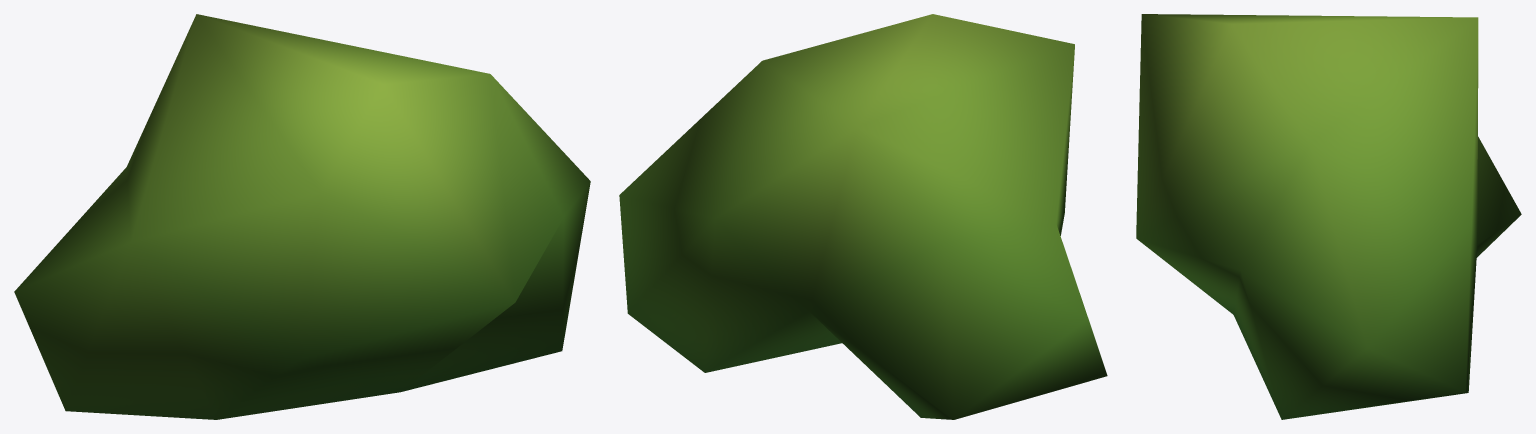
File: Bush_A_LOD1.fbx
3 renders of one model, left to right at view 1: azimuth 30°, elevation 25°; view 2: azimuth 150°, elevation 25°; view 3: azimuth 270°, elevation 25°, orthographic. The views are drawn at different scales.
Parts seen in each view (by area): view 1: Bush_A_LOD1; view 2: Bush_A_LOD1; view 3: Bush_A_LOD1.
Part boxes in pixels (x1,y1,x2,y2): Bush_A_LOD1: [14, 14, 590, 419]; Bush_A_LOD1: [619, 14, 1107, 419]; Bush_A_LOD1: [1136, 14, 1521, 419].
Size of the model in its own units: 2.27 by 1.4 by 1.51.
